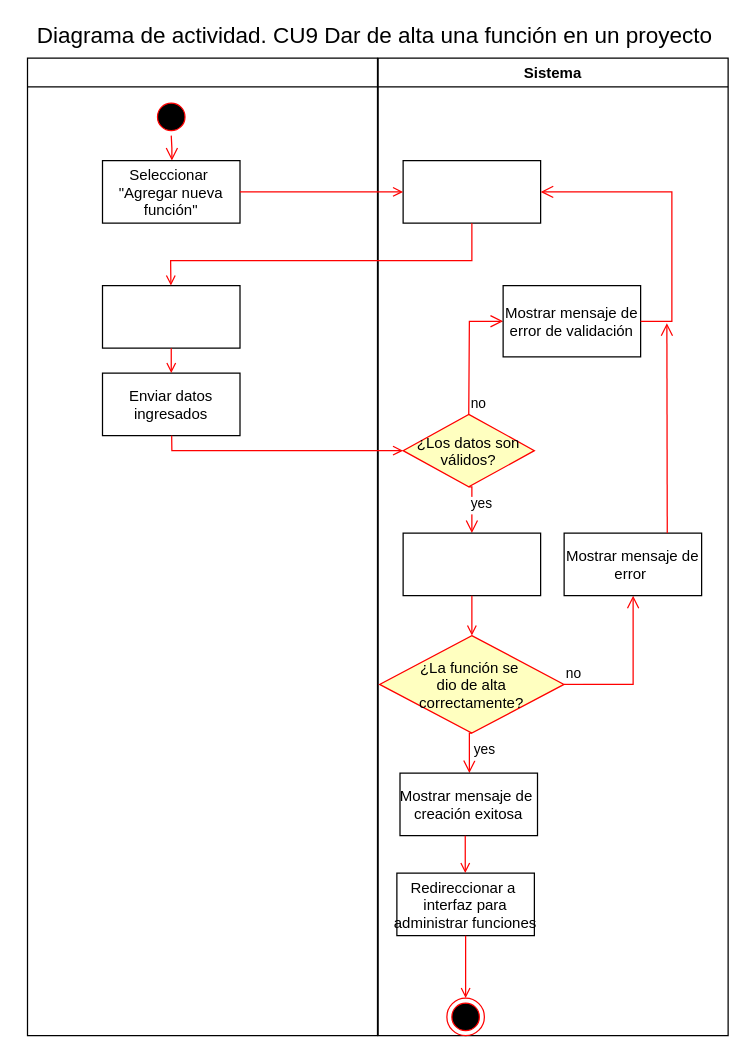
Some shapes in this 755 by 1058 pixel diagram are drawn without their labels. The box of each missing label's shape, as (x1, y1, x2, y2) in pixels:
Crear la función en la base de datos: (402, 532, 541, 596)
Ingresar detalles de función: (101, 284, 240, 348)
Mostrar menú de creación de función: (402, 159, 541, 223)
Usuario: (26, 57, 378, 1036)
